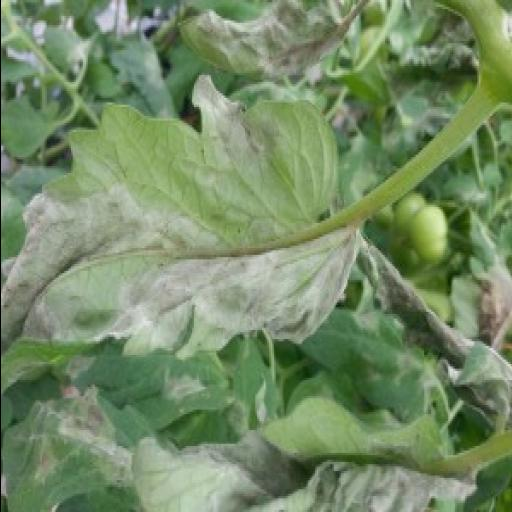Late Blight: (0, 76, 360, 361)
